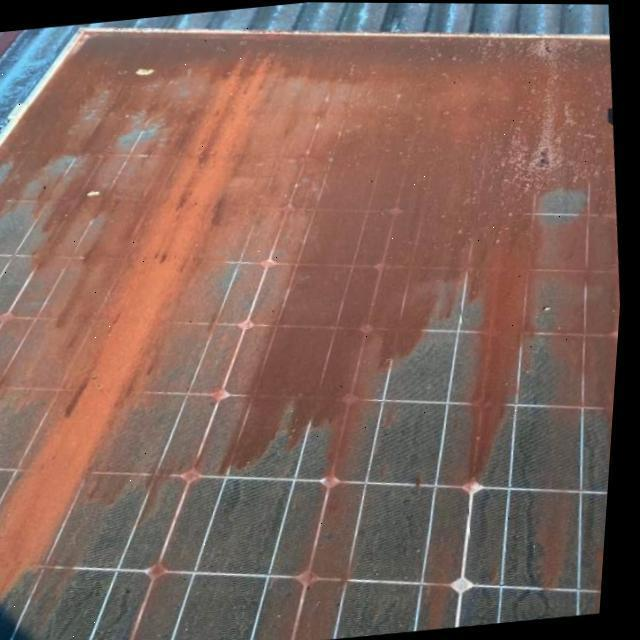Anomaly Solar Panel: (0, 2, 624, 640)
Surface Contaminant: (0, 3, 624, 640)
